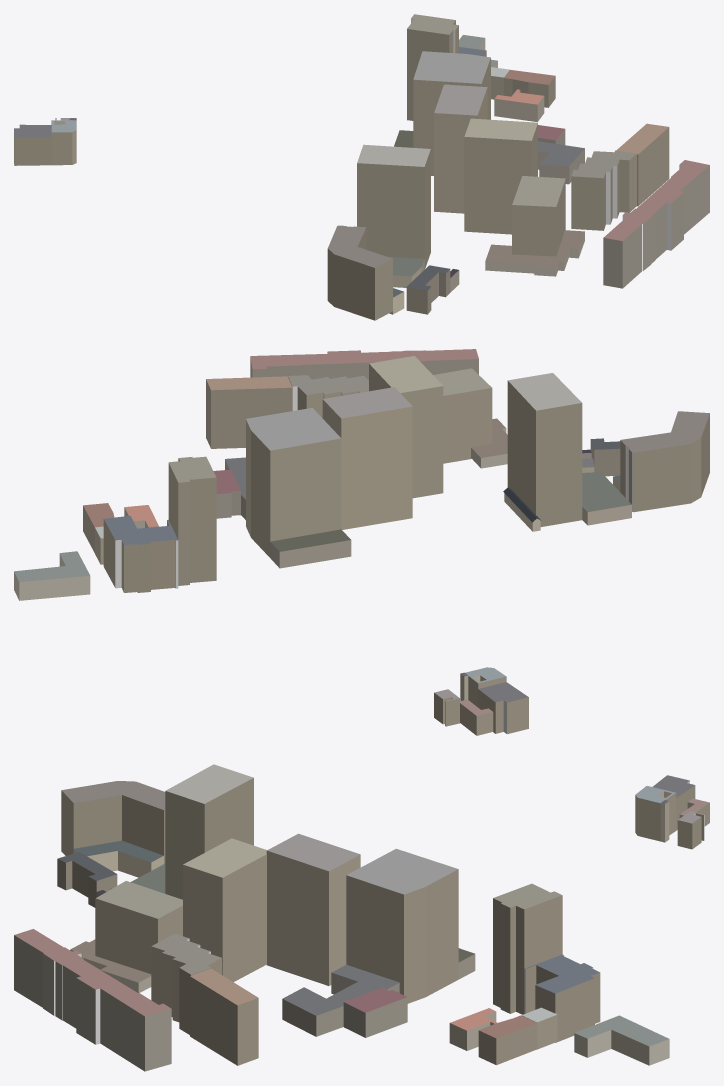
The picture shows the model from 3 angles, top to bottom: view 1: azimuth 30°, elevation 25°; view 2: azimuth 150°, elevation 25°; view 3: azimuth 270°, elevation 25°; orthographic projection. The views are drawn at different scales.
Visible parts, largest first — view 1: tuile; view 2: tuile; view 3: tuile.
Part boxes in pixels (left/top/right/bottom): tuile: left=14, top=14, right=709, bottom=320; tuile: left=14, top=349, right=709, bottom=735; tuile: left=14, top=764, right=709, bottom=1071.
Bounding box in the file's own units: 256 × 56.99 × 282.
